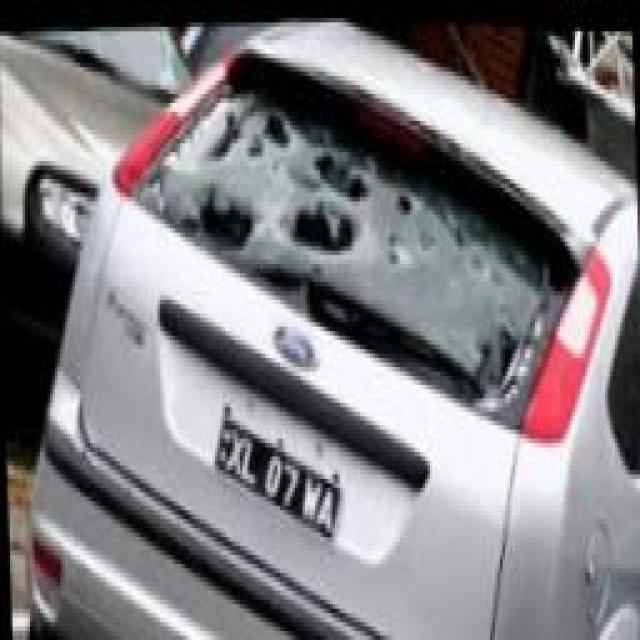replaceable: (131, 42, 568, 336), (431, 266, 437, 273)
